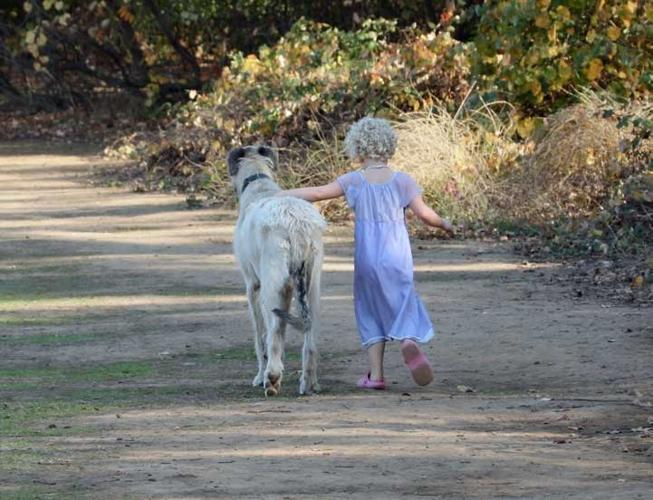person: (278, 120, 457, 394)
